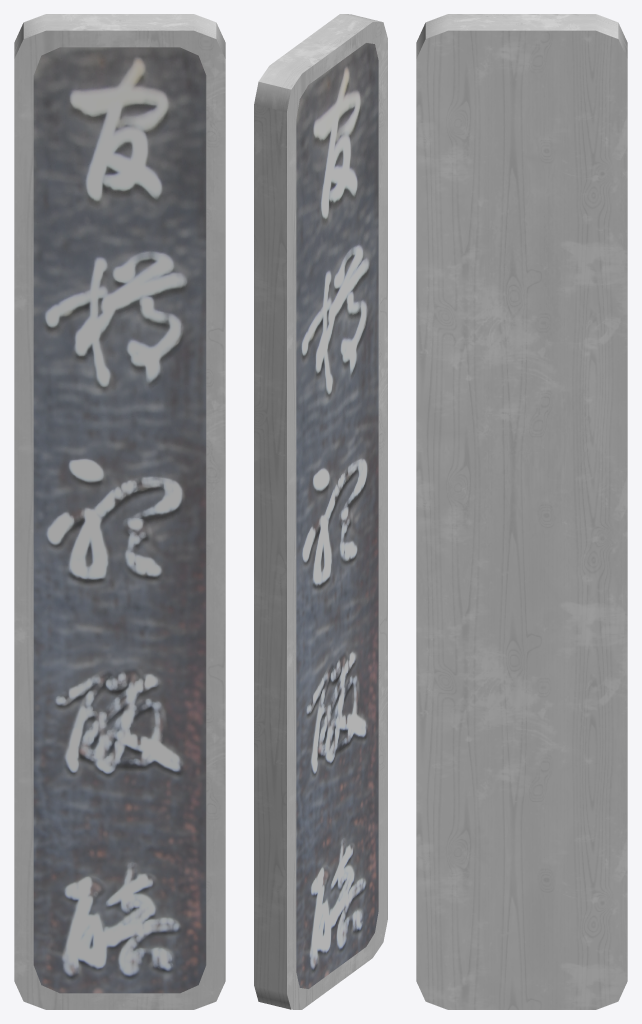
File: SM_R_Yuyotaek2.fbx
3 renders of one model, left to right at view 1: azimuth 90°, elevation 25°; view 2: azimuth 150°, elevation 25°; view 3: azimuth 270°, elevation 25°, orthographic. The views are drawn at different scales.
Parts seen in each view (by area): view 1: SM_R_Yuyotaek2; view 2: SM_R_Yuyotaek2; view 3: SM_R_Yuyotaek2.
Part boxes in pixels (x1,y1,x2,y2): SM_R_Yuyotaek2: (14, 14, 225, 1009); SM_R_Yuyotaek2: (254, 14, 387, 1009); SM_R_Yuyotaek2: (416, 14, 627, 1009).
Bounding box in the file's own units: 3.97 × 21.22 × 108.
Materials: 1 (1 with a texture image).
